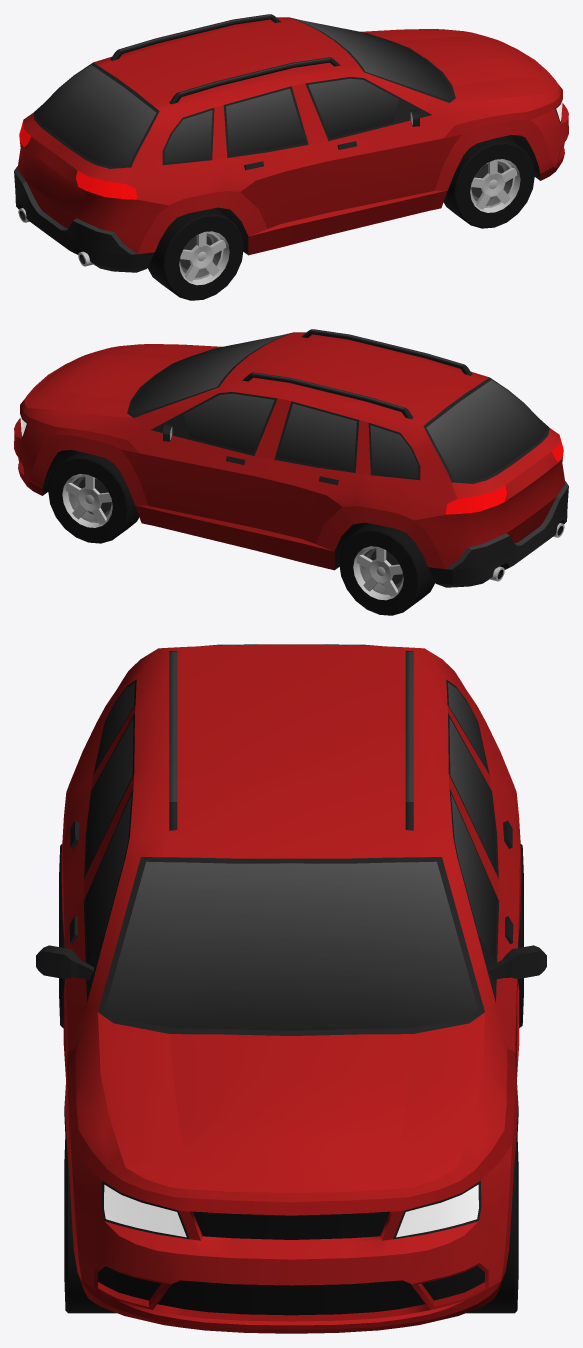
The model's file is Car_146.glb.
The picture shows the model from 3 angles, top to bottom: view 1: azimuth 30°, elevation 25°; view 2: azimuth 150°, elevation 25°; view 3: azimuth 270°, elevation 25°; orthographic projection. The views are drawn at different scales.
Visible parts, largest first — view 1: Car_146, wheel_3_Car_146_Wheel_2R, wheel_1_Car_146_Wheel_1R; view 2: Car_146, wheel_2_Car_146_Wheel_2L, wheel_0_Car_146_Wheel_1L; view 3: Car_146, wheel_1_Car_146_Wheel_1R, wheel_0_Car_146_Wheel_1L.
Part boxes in pixels (<box>): Car_146: <box>14,14,568,272</box>; wheel_3_Car_146_Wheel_2R: <box>147,208,243,300</box>; wheel_1_Car_146_Wheel_1R: <box>443,136,534,228</box>; Car_146: <box>14,329,568,587</box>; wheel_2_Car_146_Wheel_2L: <box>339,523,435,615</box>; wheel_0_Car_146_Wheel_1L: <box>48,451,139,543</box>; Car_146: <box>36,644,546,1333</box>; wheel_1_Car_146_Wheel_1R: <box>64,1131,116,1313</box>; wheel_0_Car_146_Wheel_1L: <box>466,1131,518,1313</box>.
Bounding box in the file's own units: 4.66 × 1.68 × 2.08.
Materials: 3 (3 with a texture image).
